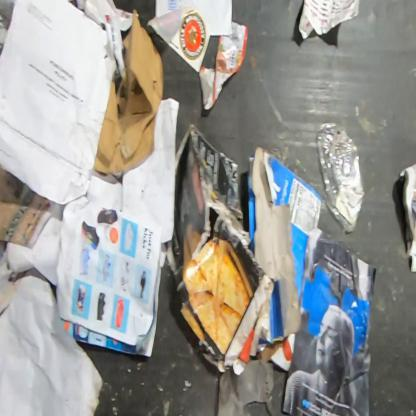cardboard: (166, 123, 276, 377), (247, 144, 323, 353), (94, 8, 165, 175), (256, 334, 296, 373)
rigid_plastic: (317, 120, 366, 235)
soft_plastic: (215, 356, 276, 415)
